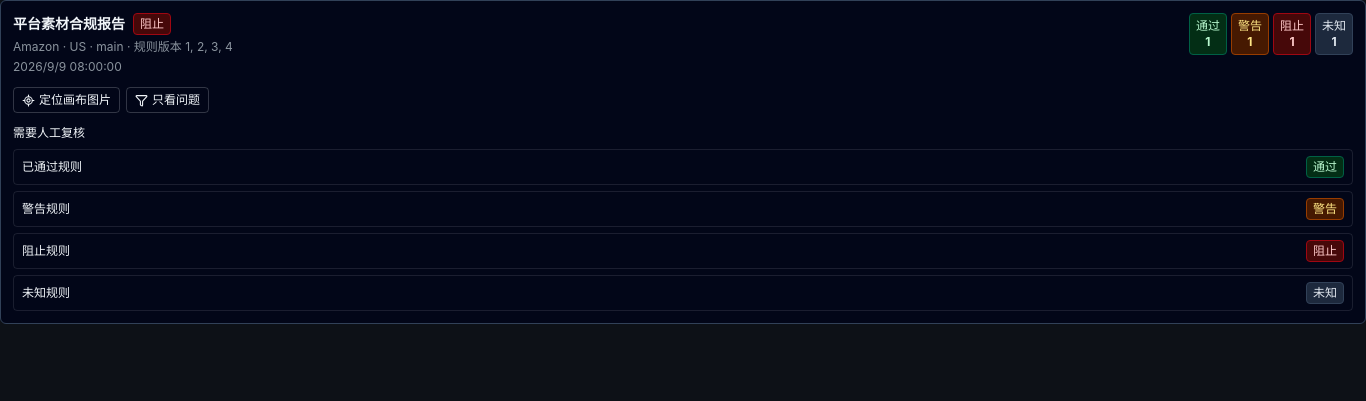
Scenario: PlatformComplianceReportCard › shows evidence, measured and required values, confidence, and remediation inside details
What coordinates should you click on to do the following:
click the text "阻止规则"
I would click on:
 (46, 251)
Its box is [22,243,70,259].
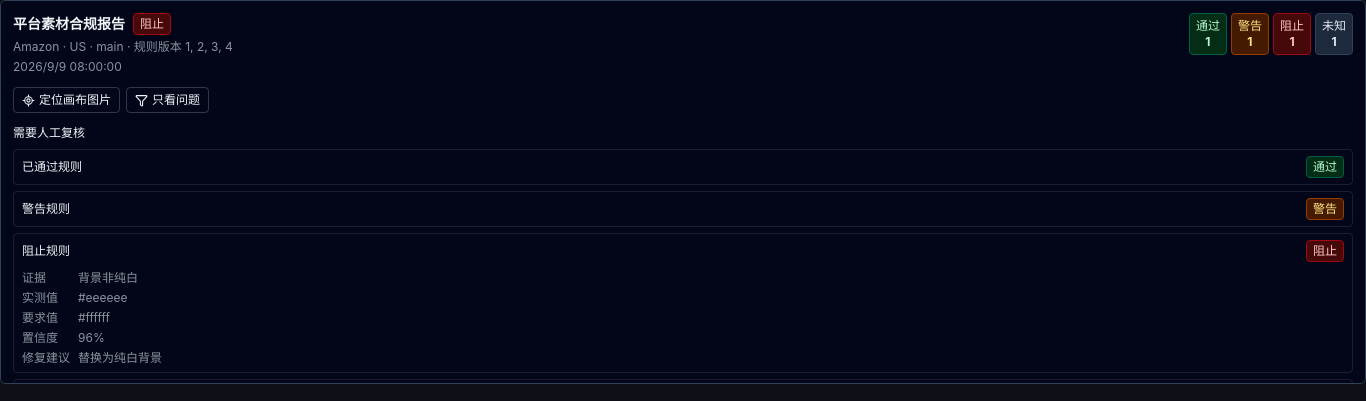
Expected: the text "背景非纯白" is shown, [78,270,138,285]
Expected: the text "#eeeeee" is shown, [78,290,128,305]
Expected: the text "#ffffff" is shown, [78,310,110,325]
